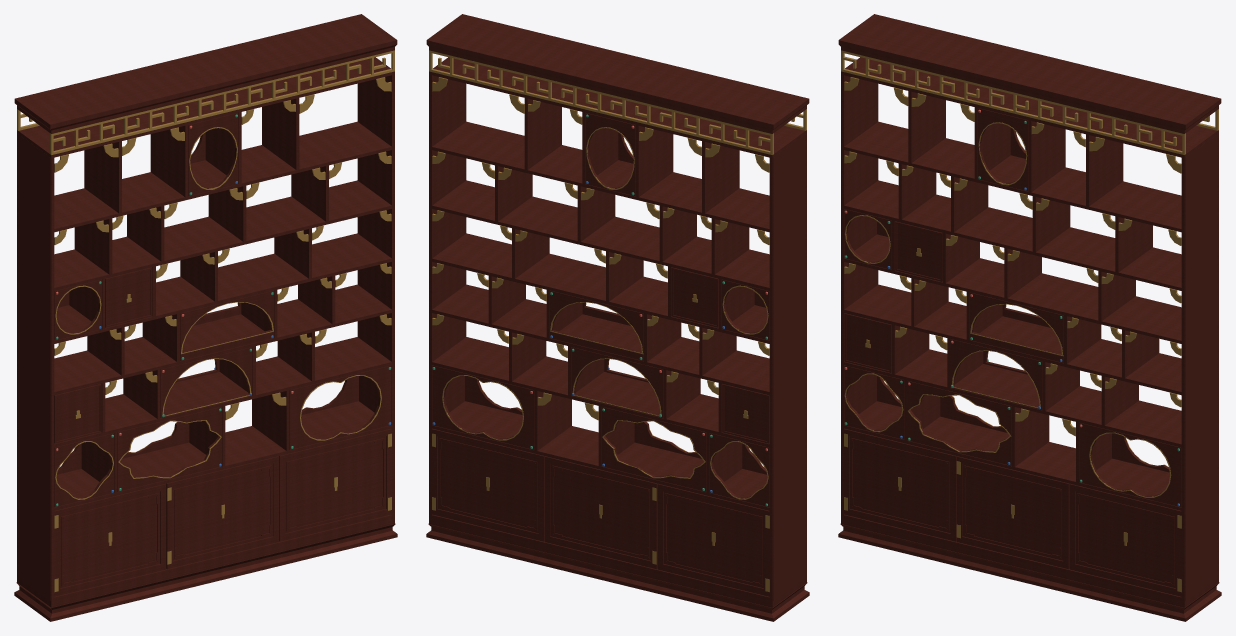
The model's file is shijinge-v1-a.glb.
The picture shows the model from 3 angles, left to right: view 1: azimuth 30°, elevation 25°; view 2: azimuth 150°, elevation 25°; view 3: azimuth 330°, elevation 25°; orthographic projection.
Parts seen in each view (by area): view 1: shijinge_a_wood, shijinge_a_side, shijinge_a_gold; view 2: shijinge_a_wood, shijinge_a_side, shijinge_a_gold; view 3: shijinge_a_wood, shijinge_a_side, shijinge_a_gold.
Boxes of the visible parts, x1=… form: shijinge_a_wood: x1=14, y1=14, x2=397, y2=621; shijinge_a_side: x1=18, y1=134, x2=50, y2=600; shijinge_a_gold: x1=17, y1=50, x2=394, y2=592; shijinge_a_wood: x1=426, y1=14, x2=809, y2=621; shijinge_a_side: x1=773, y1=134, x2=805, y2=600; shijinge_a_gold: x1=429, y1=50, x2=806, y2=591; shijinge_a_wood: x1=838, y1=14, x2=1221, y2=621; shijinge_a_side: x1=1185, y1=134, x2=1217, y2=600; shijinge_a_gold: x1=841, y1=50, x2=1218, y2=592.
Size of the model in its own units: 2.32 by 3.18 by 0.4186.
4 materials, 1 textured.
